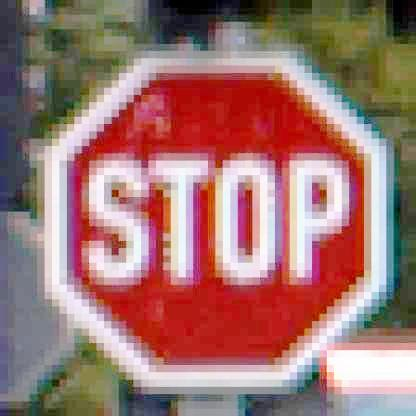Stop Sign: (48, 45, 399, 390)
